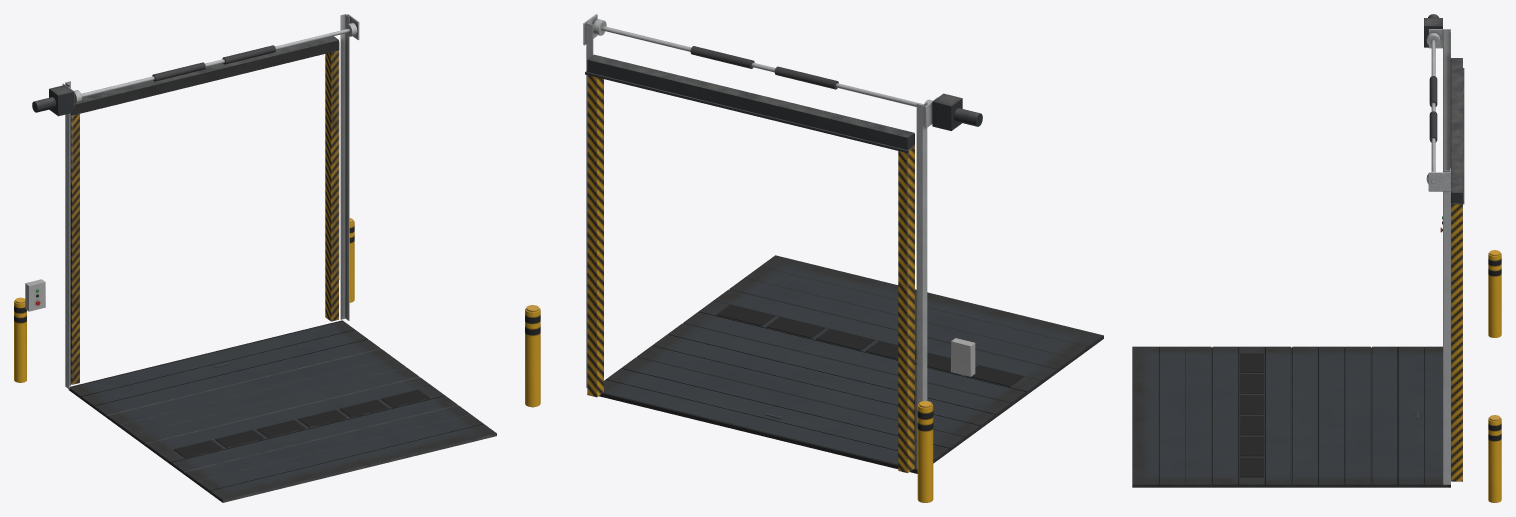
Rendered from Door_Sectional.fbx.
The picture shows the model from 3 angles, left to right: view 1: azimuth 30°, elevation 25°; view 2: azimuth 150°, elevation 25°; view 3: azimuth 270°, elevation 25°; orthographic projection. The views are drawn at different scales.
Parts seen in each view (by area): view 1: Leaf_LOD0, Door_Sectional_LOD0; view 2: Leaf_LOD0, Door_Sectional_LOD0; view 3: Leaf_LOD0, Door_Sectional_LOD0.
Part boxes in pixels (x1,y1,x2,y2): Leaf_LOD0: (68, 320, 496, 502); Door_Sectional_LOD0: (14, 14, 359, 389); Leaf_LOD0: (599, 255, 1103, 473); Door_Sectional_LOD0: (525, 14, 982, 502); Leaf_LOD0: (1132, 346, 1450, 487); Door_Sectional_LOD0: (1424, 14, 1501, 502).
Size of what is drawn, in the model's own units: 5.23 by 4.43 by 4.63.
Materials: 1 (1 with a texture image).
